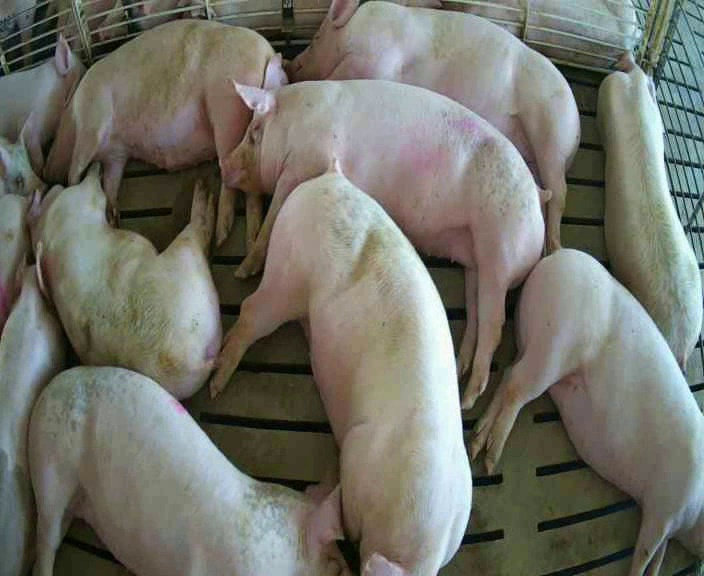pig: (472, 249, 703, 573), (287, 1, 579, 249), (29, 367, 346, 574), (26, 165, 221, 398), (598, 53, 701, 367), (0, 267, 67, 574), (0, 36, 84, 175), (0, 125, 47, 196)
